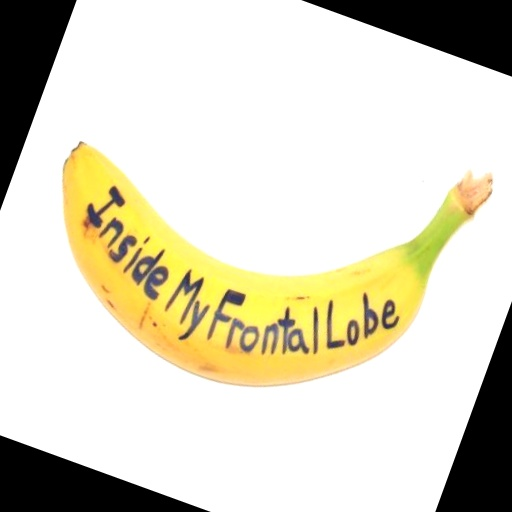fruit: (0, 51, 158, 381)
